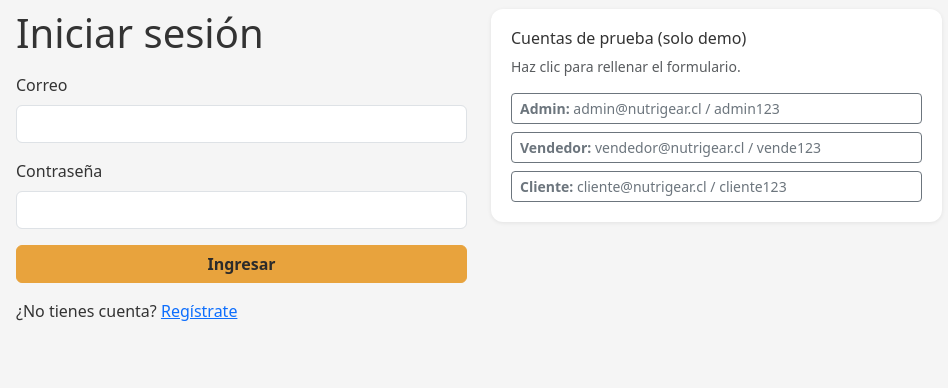
Scenario: Login › muestra errores de validación con campos vacíos
The image size is (948, 388).
Click the button "Ingresar": {"x": 242, "y": 264} [16, 245, 467, 283]
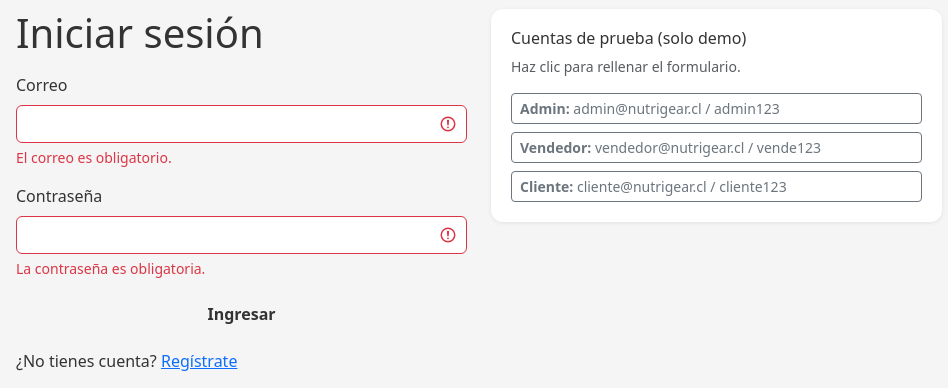
expect the text "El correo es obligatorio." is shown: met, box [16, 148, 172, 167]
expect the text "La contraseña es obligatoria." is shown: met, box [16, 259, 205, 278]
